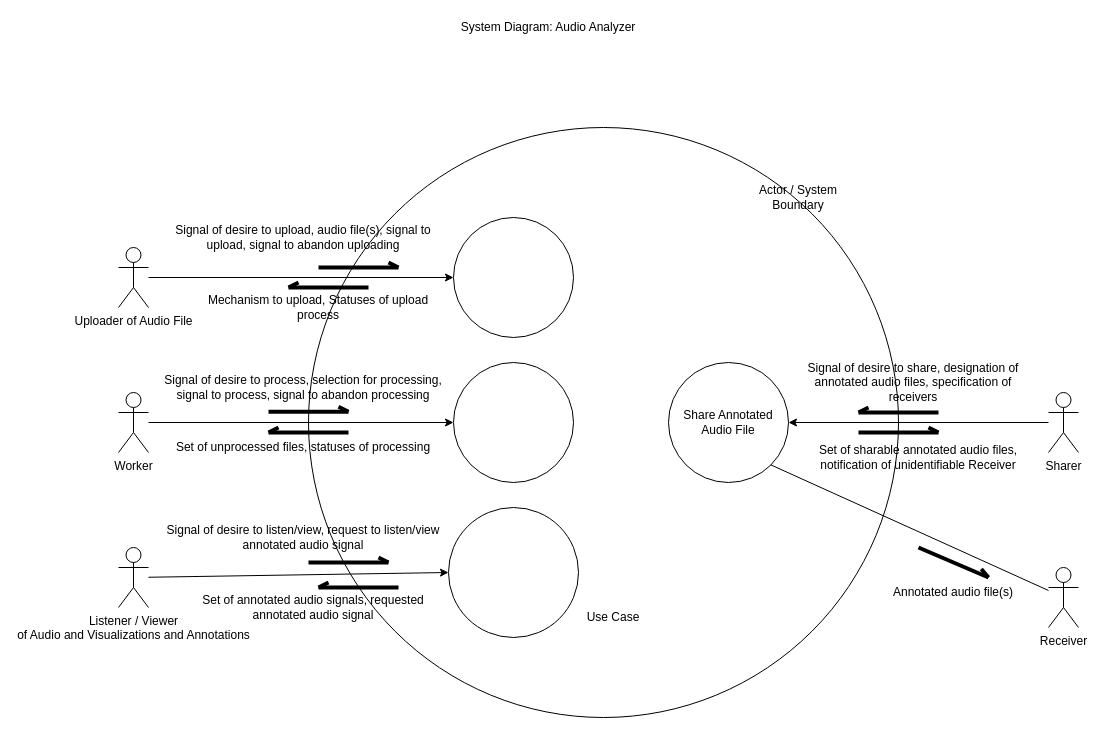
Image size: 1104x735. Some labels were removed from this diagram. Each missing label, with the box of its shape:
Listen and View an Audio File and Visualizations and Annotations: (448, 506, 578, 638)
Process Audio File(s): (452, 362, 574, 482)
Upload Audio File(s): (452, 216, 574, 338)
